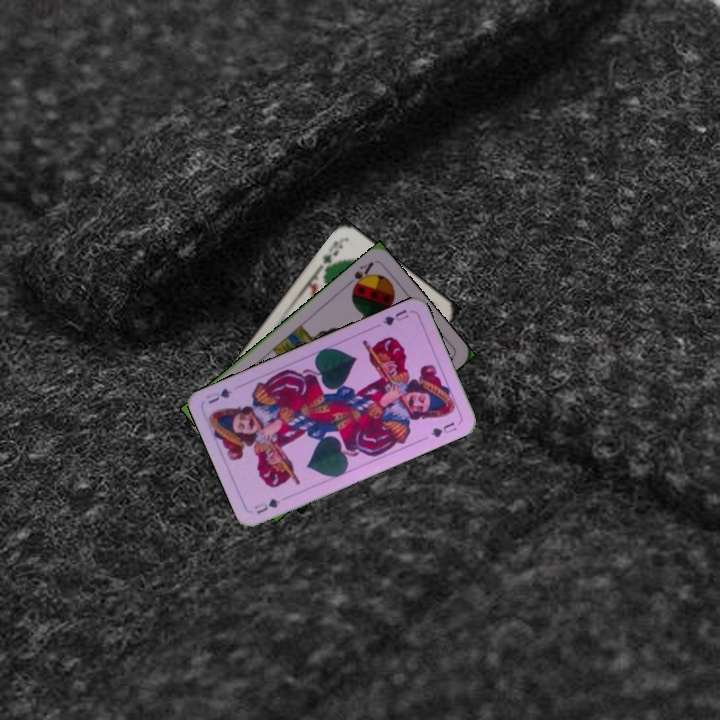GK: (318, 235, 347, 274)
GU: (378, 305, 411, 329), (250, 494, 283, 516)
SA: (348, 258, 376, 293)
